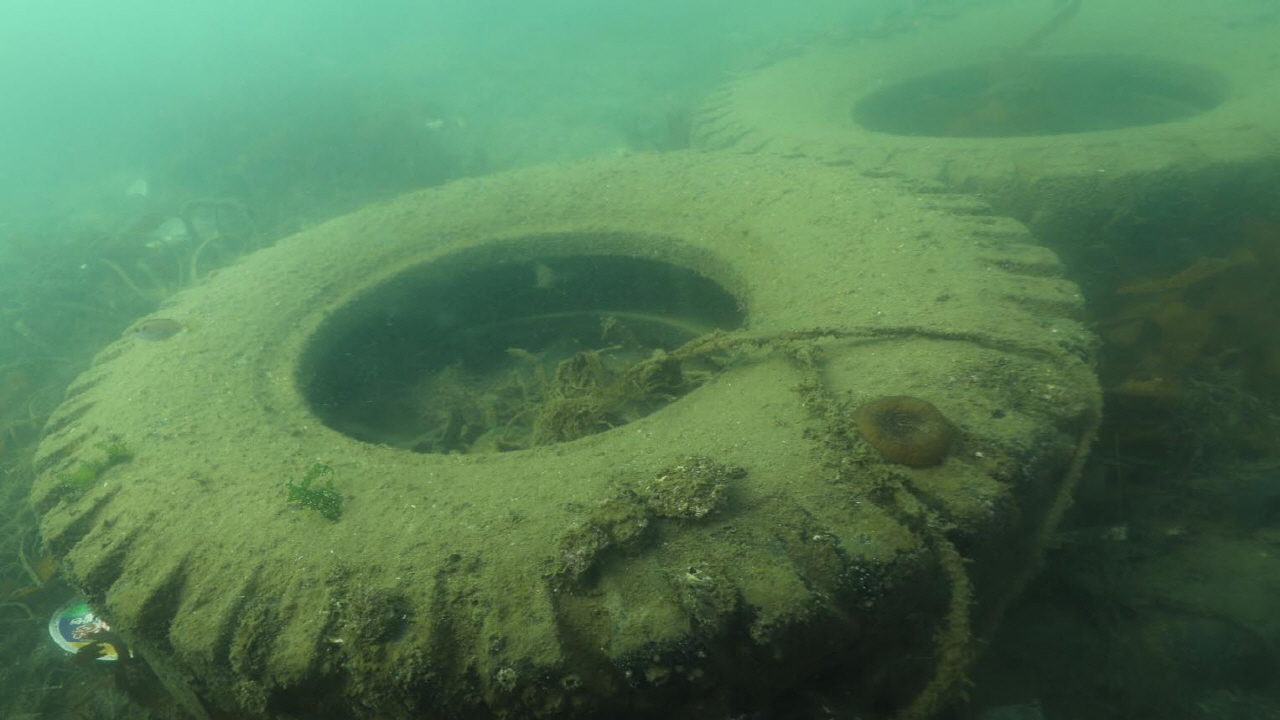bundle of ropes: (645, 323, 1106, 720)
tire: (29, 139, 1098, 713), (695, 0, 1280, 251)
